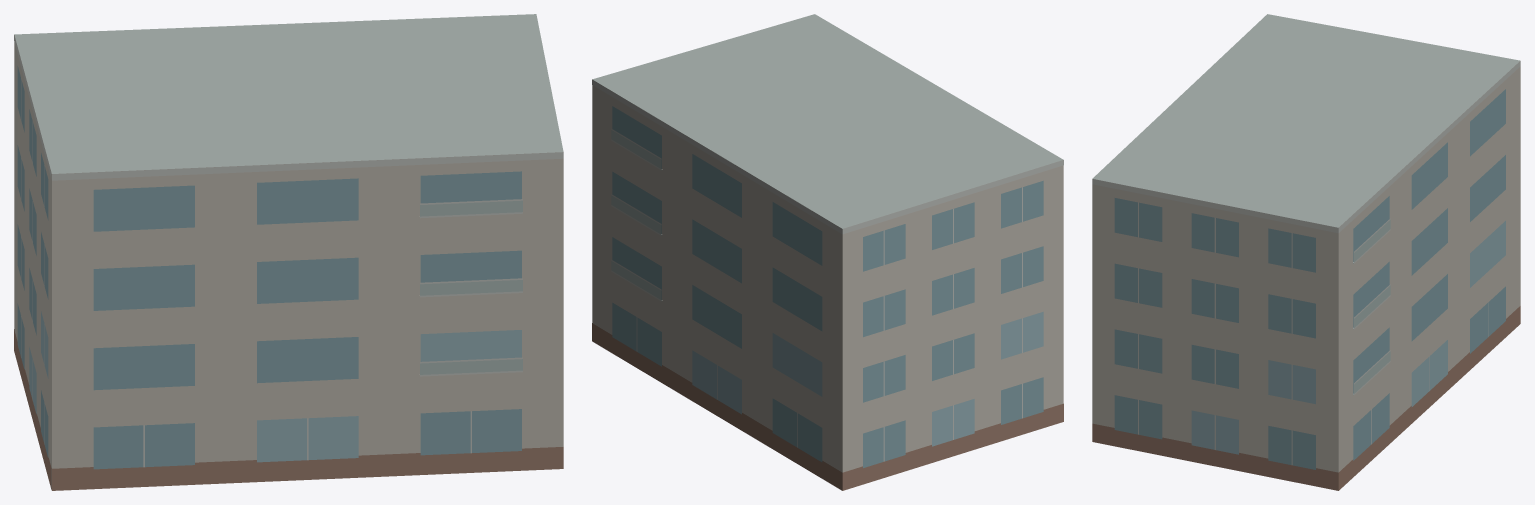
The model's file is survey-upis-32636438.glb.
3 renders of one model, left to right at view 1: azimuth 30°, elevation 25°; view 2: azimuth 150°, elevation 25°; view 3: azimuth 270°, elevation 25°, orthographic. The views are drawn at different scales.
Visible parts, largest first — view 1: survey-upis-32636438.tmp; view 2: survey-upis-32636438.tmp; view 3: survey-upis-32636438.tmp.
Part boxes in pixels (x1,y1,x2,y2): survey-upis-32636438.tmp: [14, 14, 563, 490]; survey-upis-32636438.tmp: [592, 14, 1063, 490]; survey-upis-32636438.tmp: [1092, 14, 1520, 490].
Size of the model in its own units: 20.22 by 11.6 by 17.13.
